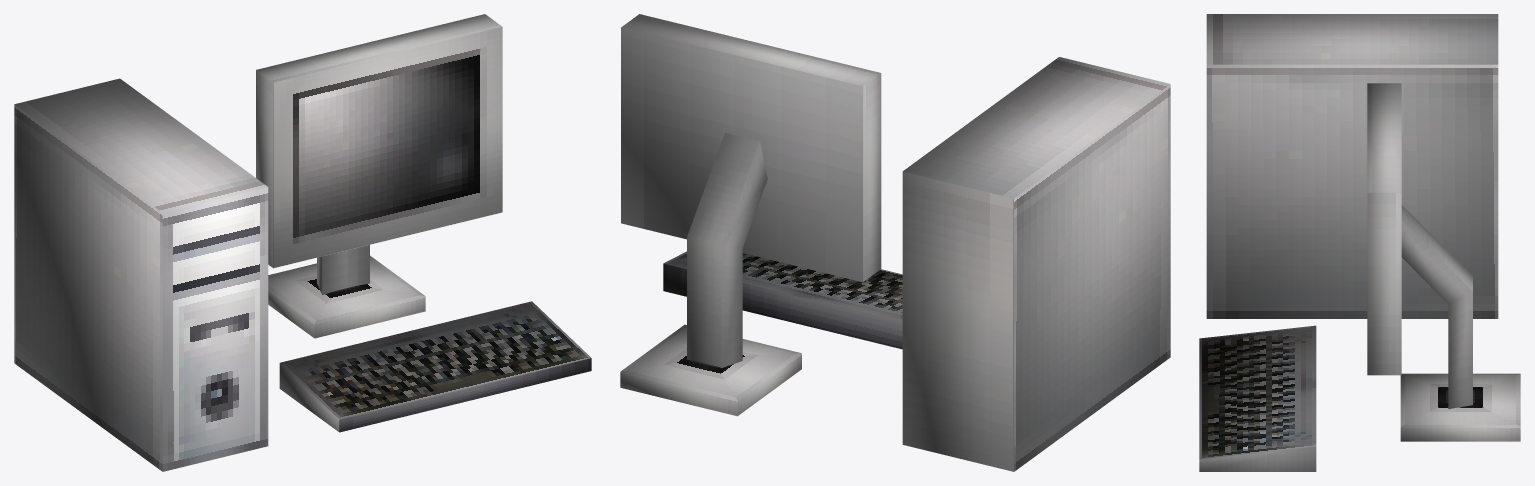
Rendered from a_SCgen14.glb.
The picture shows the model from 3 angles, left to right: view 1: azimuth 30°, elevation 25°; view 2: azimuth 150°, elevation 25°; view 3: azimuth 270°, elevation 25°; orthographic projection. The views are drawn at different scales.
Visible parts, largest first — view 1: a_SCgen14; view 2: a_SCgen14; view 3: a_SCgen14.
Part boxes in pixels (box(x1,y1,x2,y2)): a_SCgen14: box(14, 14, 591, 471); a_SCgen14: box(620, 14, 1170, 471); a_SCgen14: box(1199, 14, 1520, 471).
Bounding box in the file's own units: 0.6742 × 0.4281 × 0.4494.
1 material, 1 textured.
